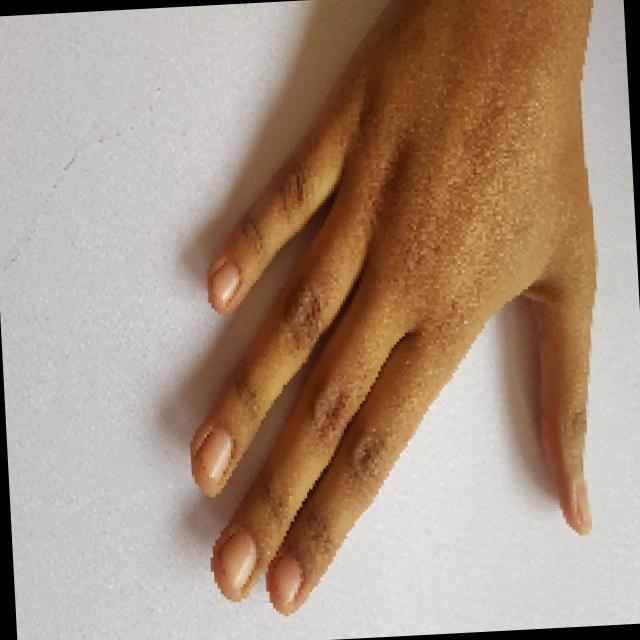Nail: (220, 531, 256, 589), (197, 429, 231, 482), (273, 554, 301, 603), (212, 262, 238, 305), (575, 480, 591, 529)
